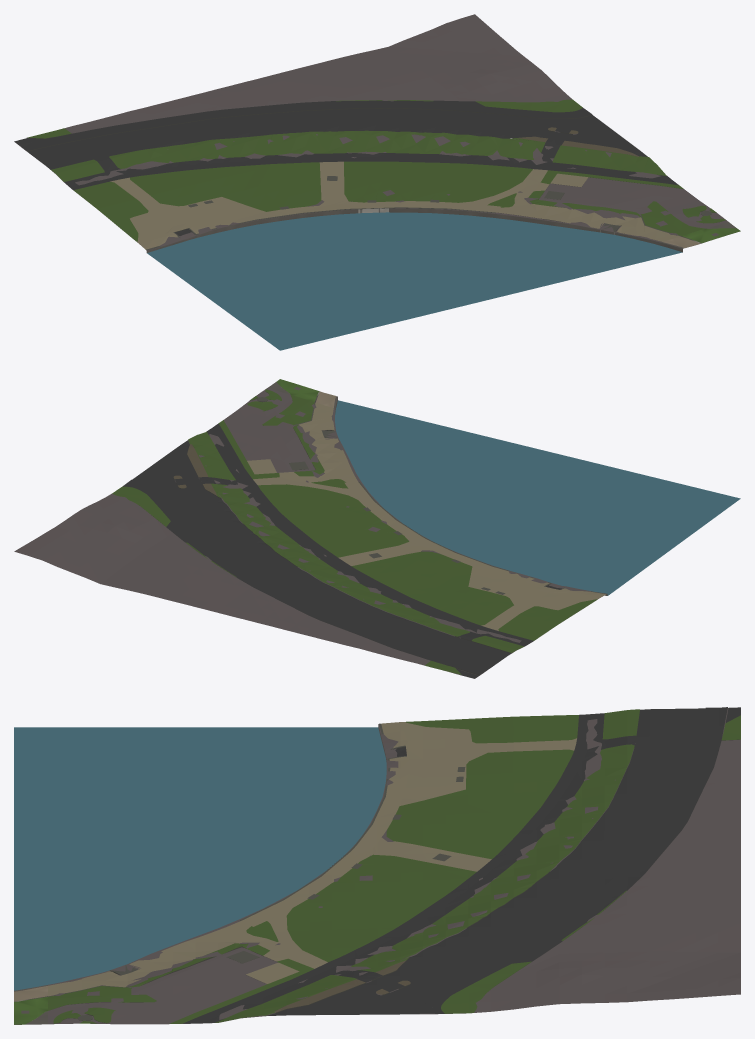
3 views of the same model, one above another, from view 1: azimuth 30°, elevation 25°; view 2: azimuth 150°, elevation 25°; view 3: azimuth 270°, elevation 25° (orthographic). The views are drawn at different scales.
Visible parts, largest first — view 1: c_m03_m10, append:c_m03_m10; view 2: c_m03_m10; view 3: c_m03_m10.
Boxes of the visible parts, x1=… form: c_m03_m10: x1=14, y1=14, x2=740, y2=350; append:c_m03_m10: x1=146, y1=208, x2=682, y2=252; c_m03_m10: x1=14, y1=379, x2=740, y2=678; c_m03_m10: x1=14, y1=707, x2=740, y2=1024.
Bounding box in the file's own units: 128 × 7.77 × 128.
